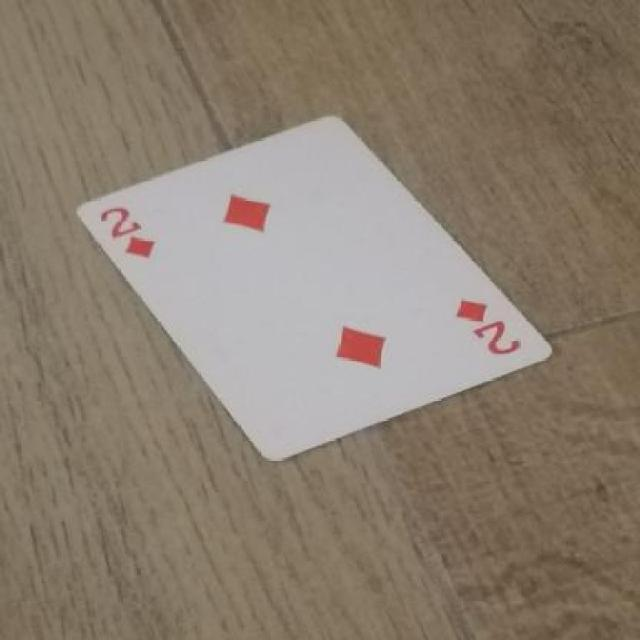2D: (431, 291, 527, 366), (99, 194, 167, 278)
